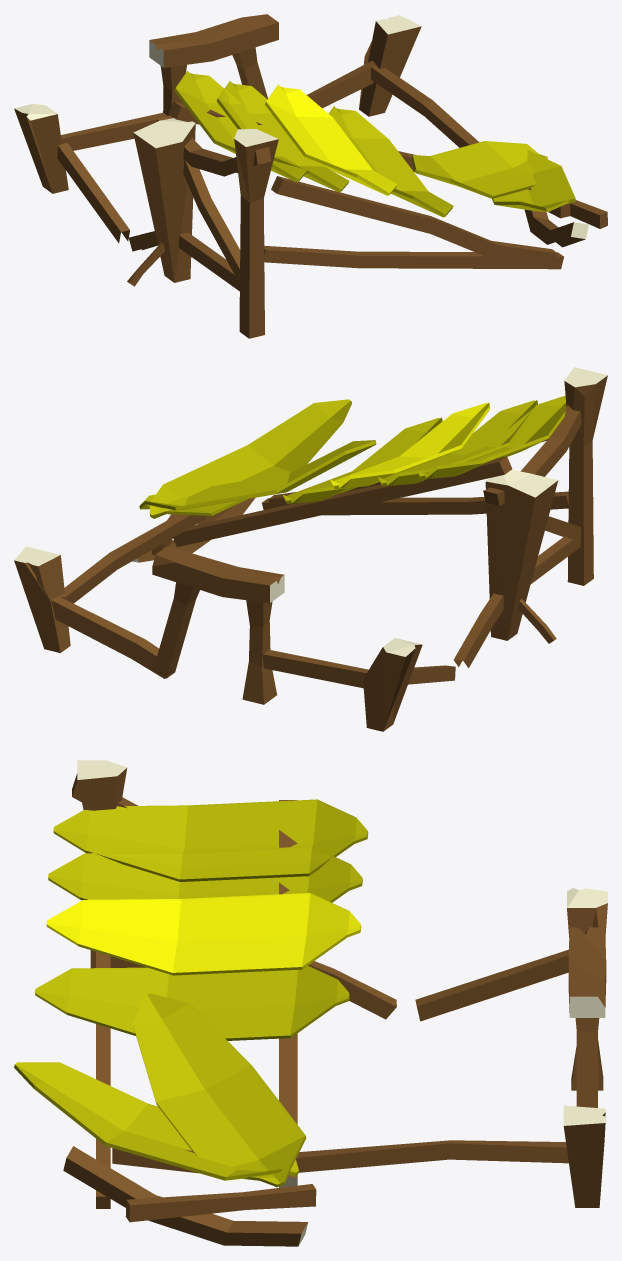
File: RESERVE BOIS 1.fbx
The picture shows the model from 3 angles, top to bottom: view 1: azimuth 30°, elevation 25°; view 2: azimuth 150°, elevation 25°; view 3: azimuth 270°, elevation 25°; orthographic projection. The views are drawn at different scales.
Parts seen in each view (by area): view 1: Cube.016; view 2: Cube.016; view 3: Cube.016.
Boxes of the visible parts, left/top/right/bottom form: Cube.016: left=14, top=14, right=607, bottom=338; Cube.016: left=14, top=367, right=607, bottom=731; Cube.016: left=14, top=760, right=607, bottom=1246.
Size of the model in its own units: 600 by 300 by 600.
